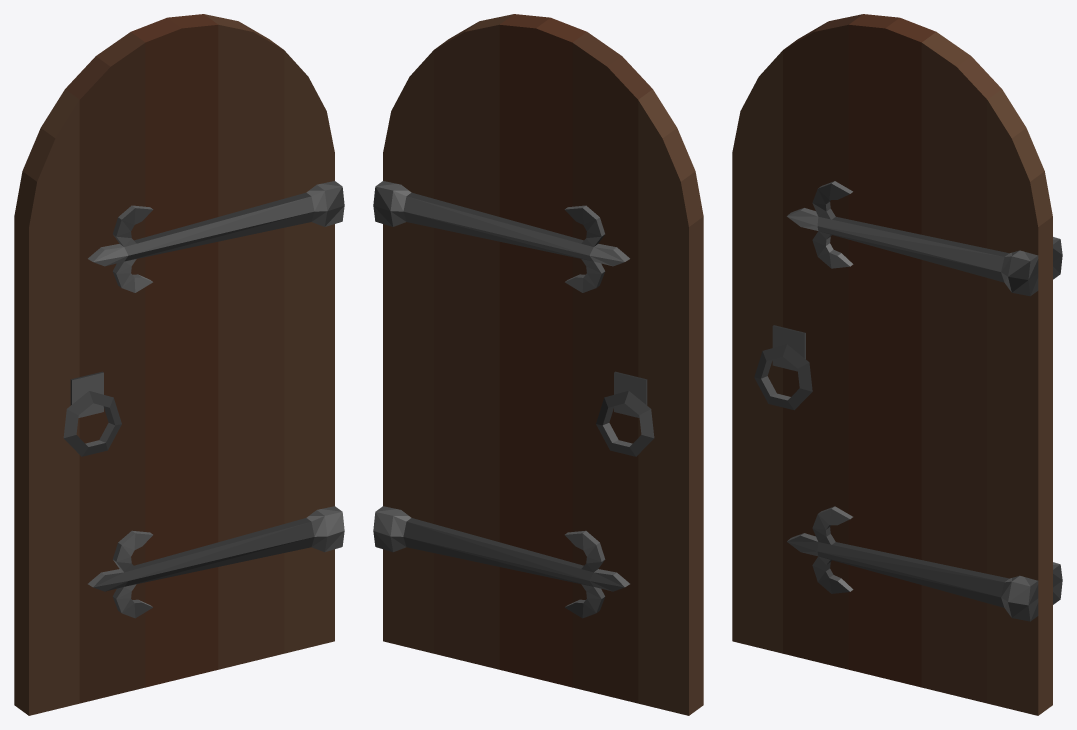
Rendered from Prop_DoorArchC.fbx.
The picture shows the model from 3 angles, left to right: view 1: azimuth 30°, elevation 25°; view 2: azimuth 150°, elevation 25°; view 3: azimuth 330°, elevation 25°; orthographic projection.
Parts seen in each view (by area): view 1: Prop_DoorArchC; view 2: Prop_DoorArchC; view 3: Prop_DoorArchC.
Boxes of the visible parts, x1,y1,x2,y2 form: Prop_DoorArchC: (14, 14, 344, 715); Prop_DoorArchC: (373, 14, 703, 715); Prop_DoorArchC: (732, 14, 1062, 715).
Size of the model in its own units: 120 by 244 by 25.36.
